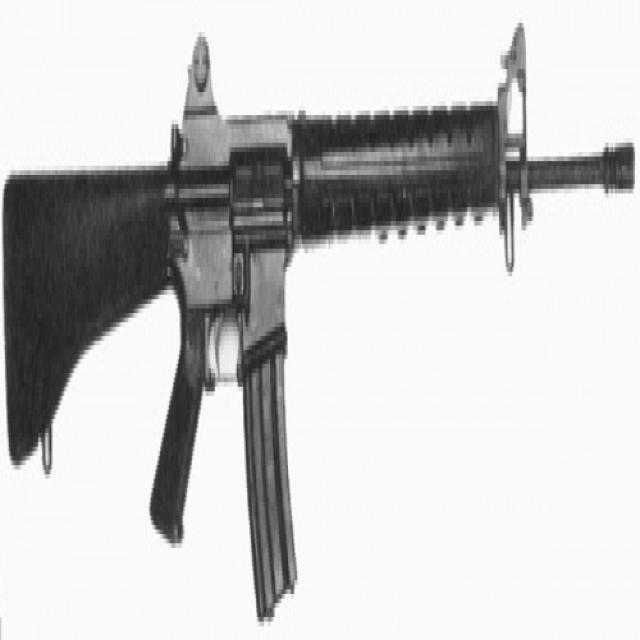rifle: (5, 1, 640, 639)
